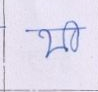i_matra: (65, 20, 80, 51)
